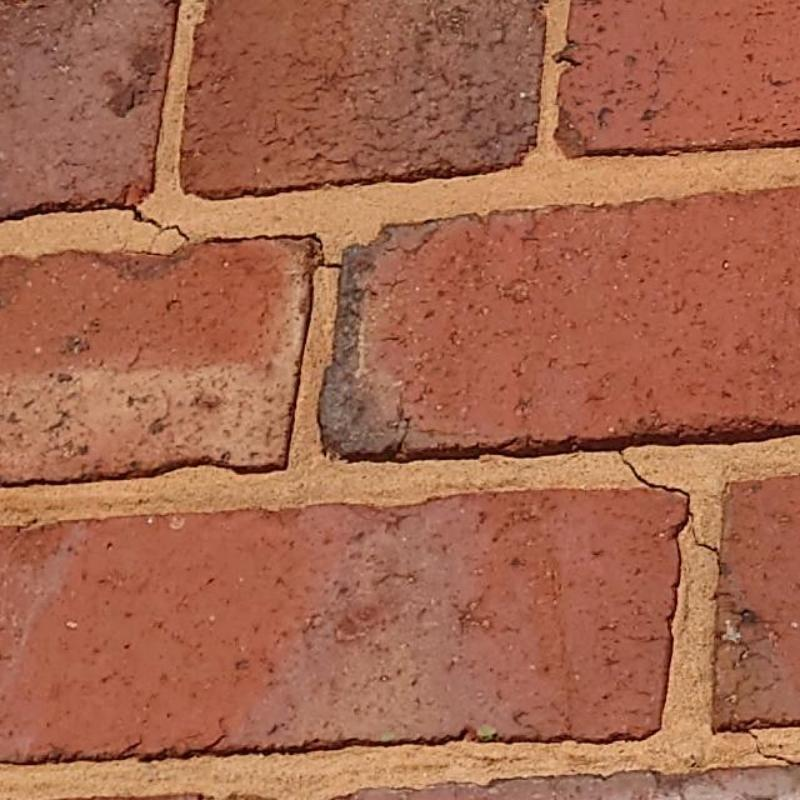pothole: (618, 451, 719, 553), (204, 232, 343, 269), (727, 729, 800, 765), (131, 205, 190, 242)
